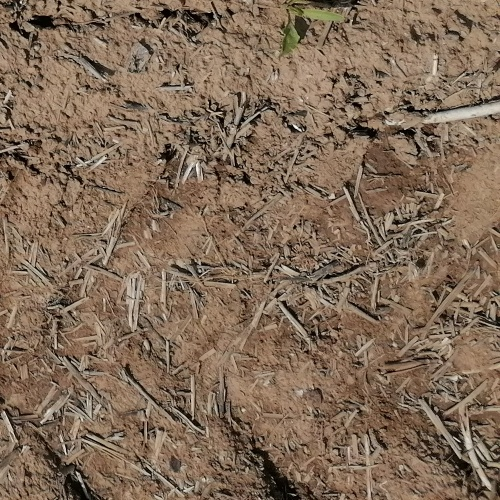beet: (279, 0, 347, 54)
